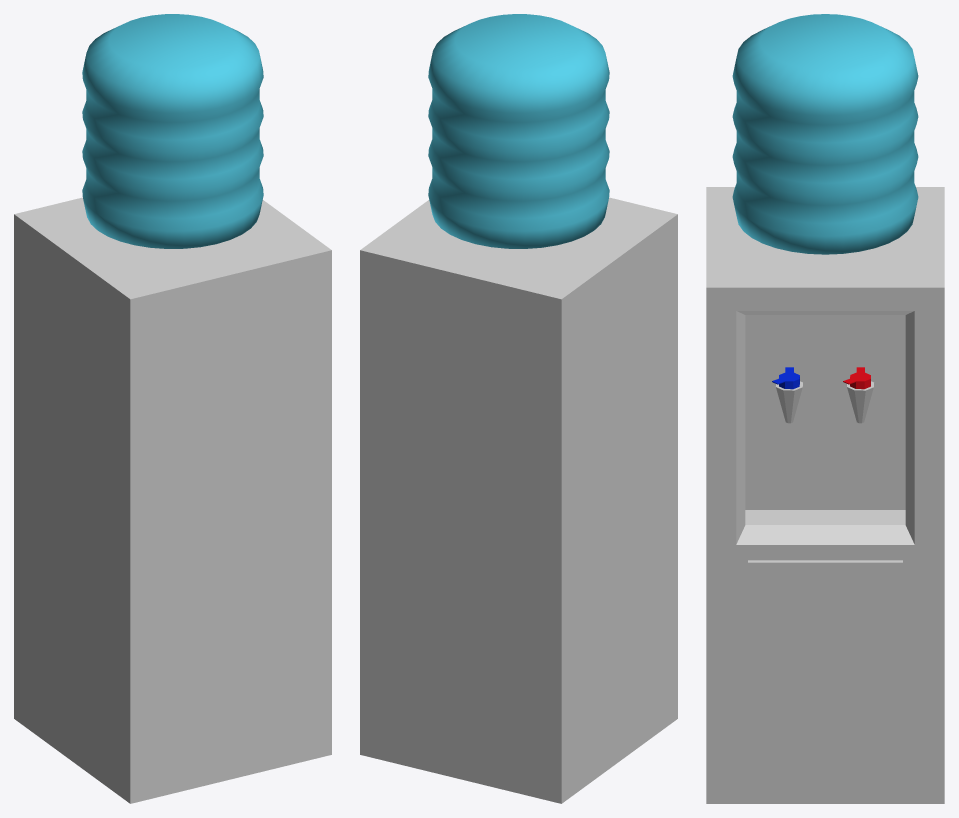
File: WaterDispensor.fbx
3 renders of one model, left to right at view 1: azimuth 30°, elevation 25°; view 2: azimuth 150°, elevation 25°; view 3: azimuth 270°, elevation 25°, orthographic. The views are drawn at different scales.
Visible parts, largest first — view 1: Main, Jug; view 2: Main, Jug; view 3: Main, Jug, Nozzles.
Boxes of the visible parts, x1,y1,x2,y2 form: Main: (14,197,331,803); Jug: (82,14,263,248); Main: (360,197,677,803); Jug: (428,14,609,248); Main: (706,187,944,803); Jug: (732,14,918,254); Nozzles: (772,367,873,423).
Bounding box in the file's own units: 115 × 370 × 112.
